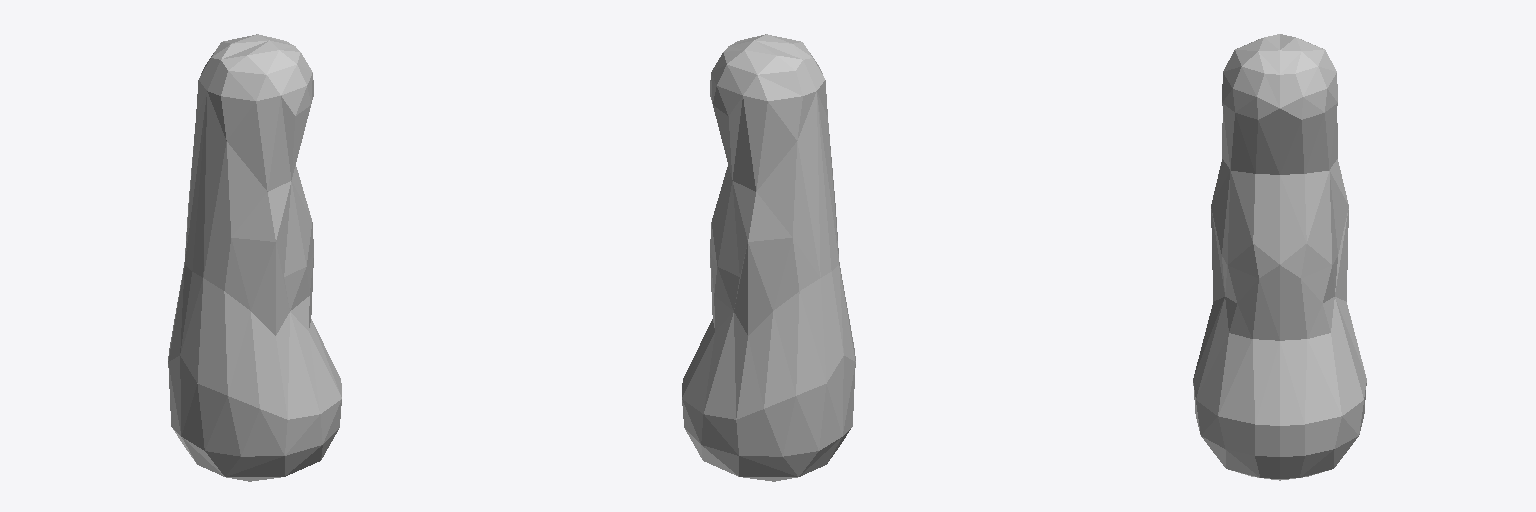
The model's file is spider leg root.obj.
3 renders of one model, left to right at view 1: azimuth 30°, elevation 25°; view 2: azimuth 150°, elevation 25°; view 3: azimuth 270°, elevation 25°, orthographic.
Visible parts, largest first — view 1: Cylinder; view 2: Cylinder; view 3: Cylinder.
Part boxes in pixels (x1,y1,x2,y2): Cylinder: (168, 34, 341, 481); Cylinder: (682, 34, 855, 481); Cylinder: (1193, 34, 1366, 480).
Bounding box in the file's own units: 0.6375 × 1.7 × 0.6326.